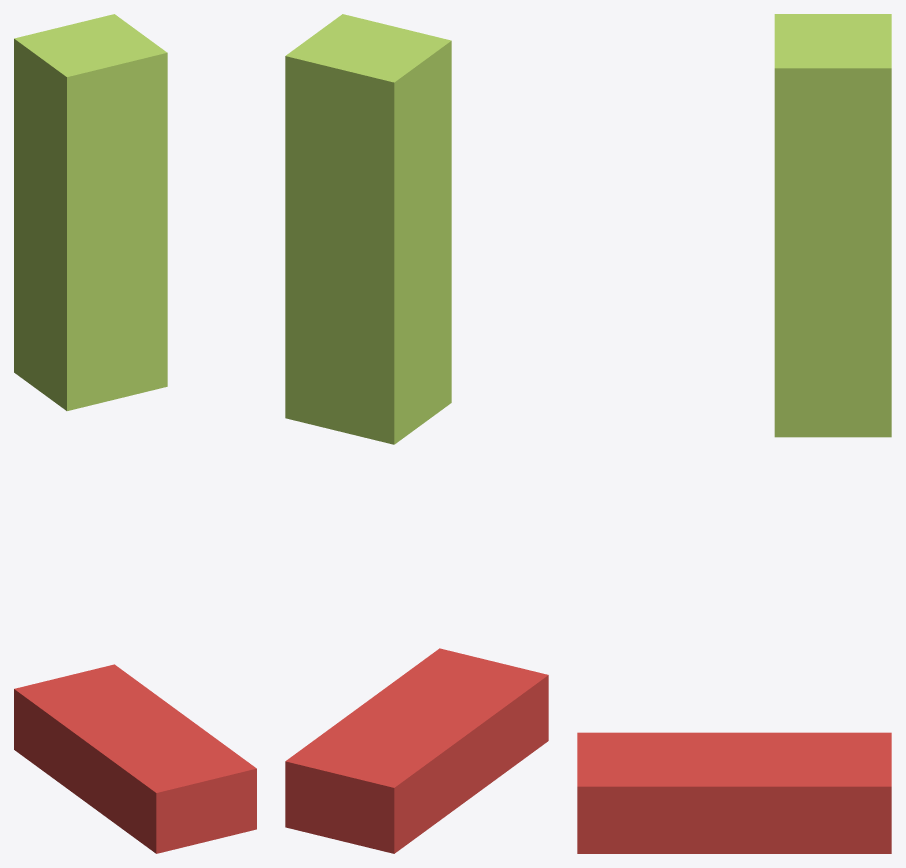
The model's file is Piezas_pantalla_9.fbx.
The picture shows the model from 3 angles, left to right: view 1: azimuth 30°, elevation 25°; view 2: azimuth 150°, elevation 25°; view 3: azimuth 270°, elevation 25°; orthographic projection. The views are drawn at different scales.
Parts seen in each view (by area): view 1: Pantalla_Antes_Obtención_rana.001; view 2: Pantalla_Antes_Obtención_rana.001; view 3: Pantalla_Antes_Obtención_rana.001.
Boxes of the visible parts, x1,y1,x2,y2 form: Pantalla_Antes_Obtención_rana.001: (14,14,256,853); Pantalla_Antes_Obtención_rana.001: (285,14,548,853); Pantalla_Antes_Obtención_rana.001: (577,14,891,853).
Bounding box in the file's own units: 251 × 1696 × 615.
